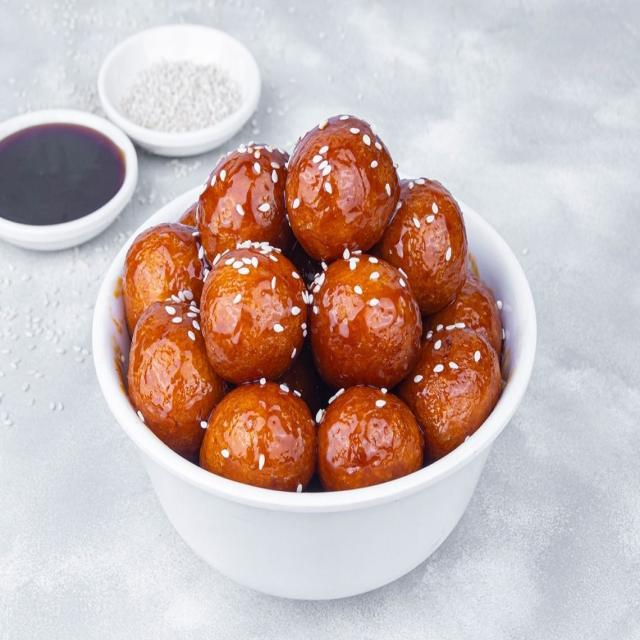Luqaimat: (124, 140, 554, 531)
